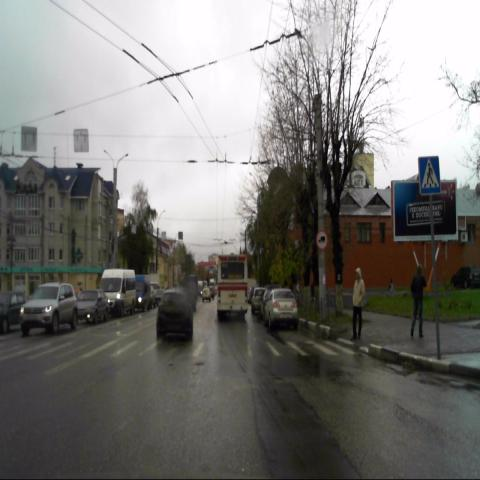3_4_1: (315, 228, 328, 250)
